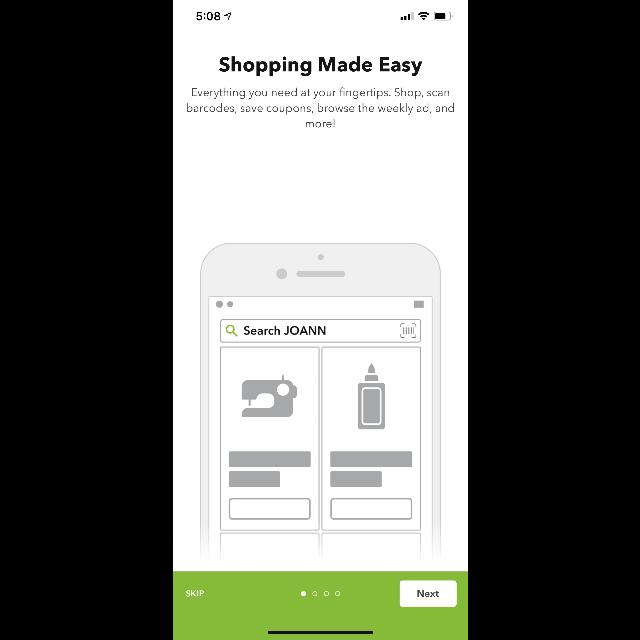image: (200, 242, 440, 560)
pageindicator: (300, 592, 340, 596)
text: (186, 88, 454, 128), (218, 56, 422, 76), (185, 590, 203, 598)
textbutton: (399, 581, 456, 607)
uppertaskbar: (196, 12, 452, 21)
